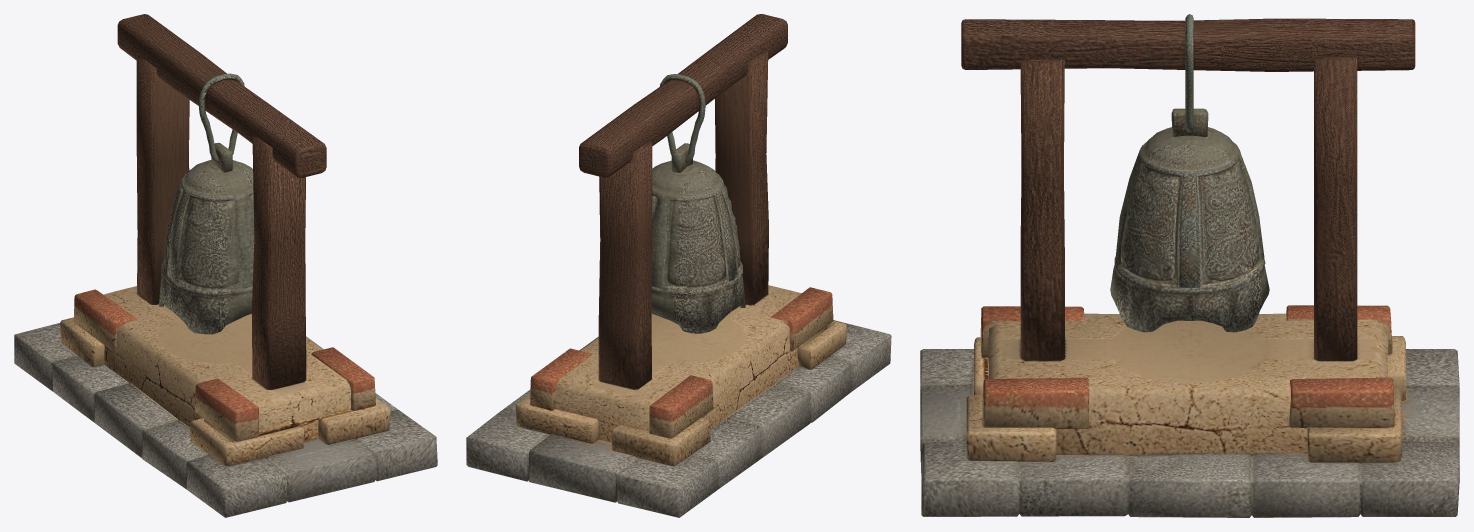
File: tripo_convert_63da15bc-d2df-4494-b3bc-9b6ee2e87a5a.fbx
3 views of the same model, side by side, from view 1: azimuth 30°, elevation 25°; view 2: azimuth 150°, elevation 25°; view 3: azimuth 270°, elevation 25° (orthographic). The views are drawn at different scales.
Parts seen in each view (by area): view 1: tripo_node_63da15bc; view 2: tripo_node_63da15bc; view 3: tripo_node_63da15bc.
Boxes of the visible parts, x1=… form: tripo_node_63da15bc: x1=14, y1=14, x2=437, y2=517; tripo_node_63da15bc: x1=466, y1=14, x2=891, y2=517; tripo_node_63da15bc: x1=920, y1=14, x2=1459, y2=517.
Size of the model in its own units: 0.5879 by 0.8809 by 0.998.
1 material, 1 textured.
